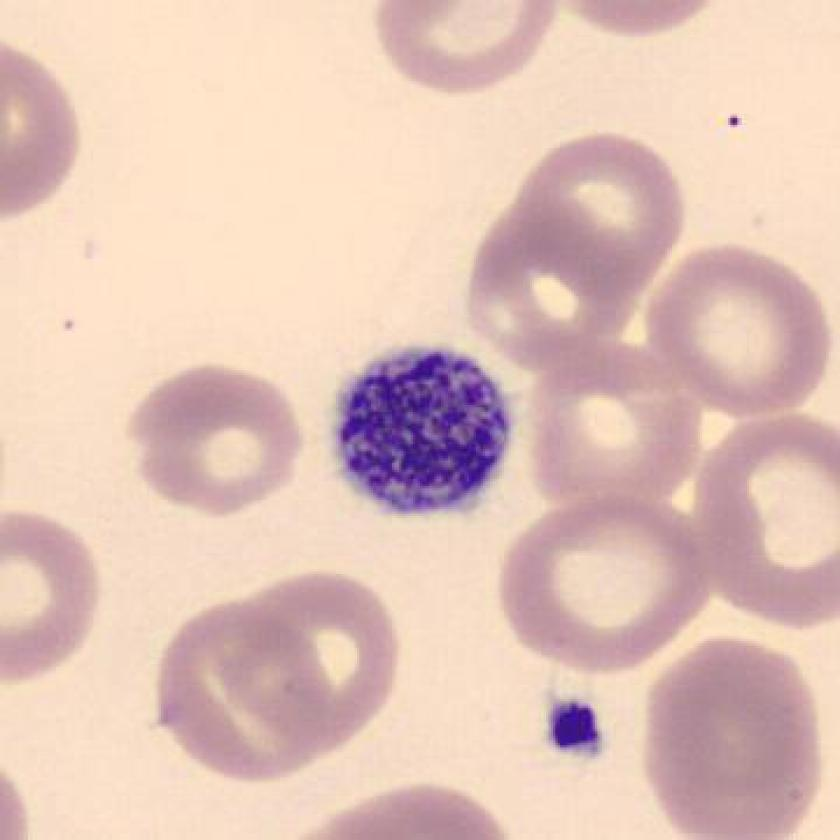platelets: (321, 332, 521, 533), (531, 682, 619, 772)
